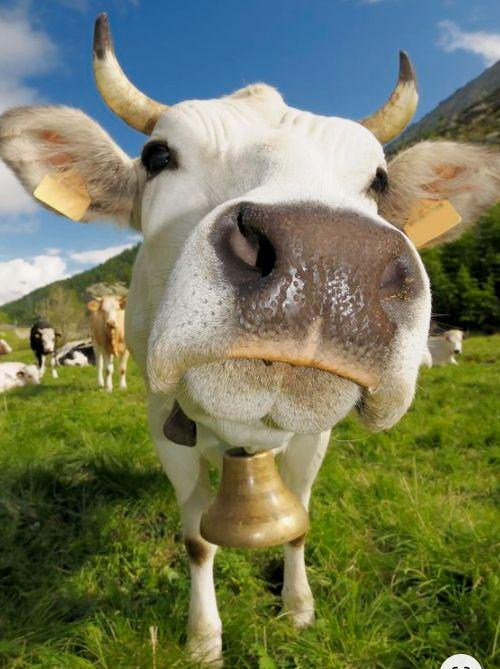cow: (64, 14, 250, 238)
